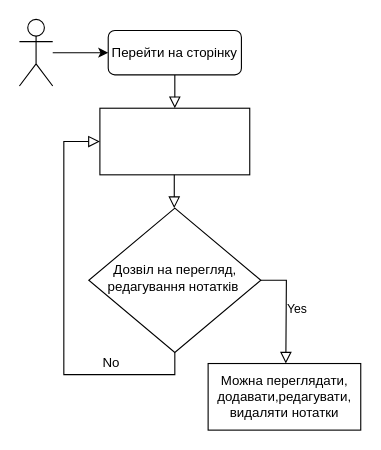
Some shapes in this 381 by 450 pixel diagram are drawn without their labels. The shapes that lost their labels are listed below. From the top down, each one's box as (x1, y1, x2, y2) in pixels, then its label:
(18, 18, 53, 86): Actor
(99, 107, 250, 175): Завантаження сторінки користувача з усіма нотатками
